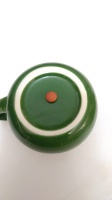Dolorex: (45, 91, 59, 105)
